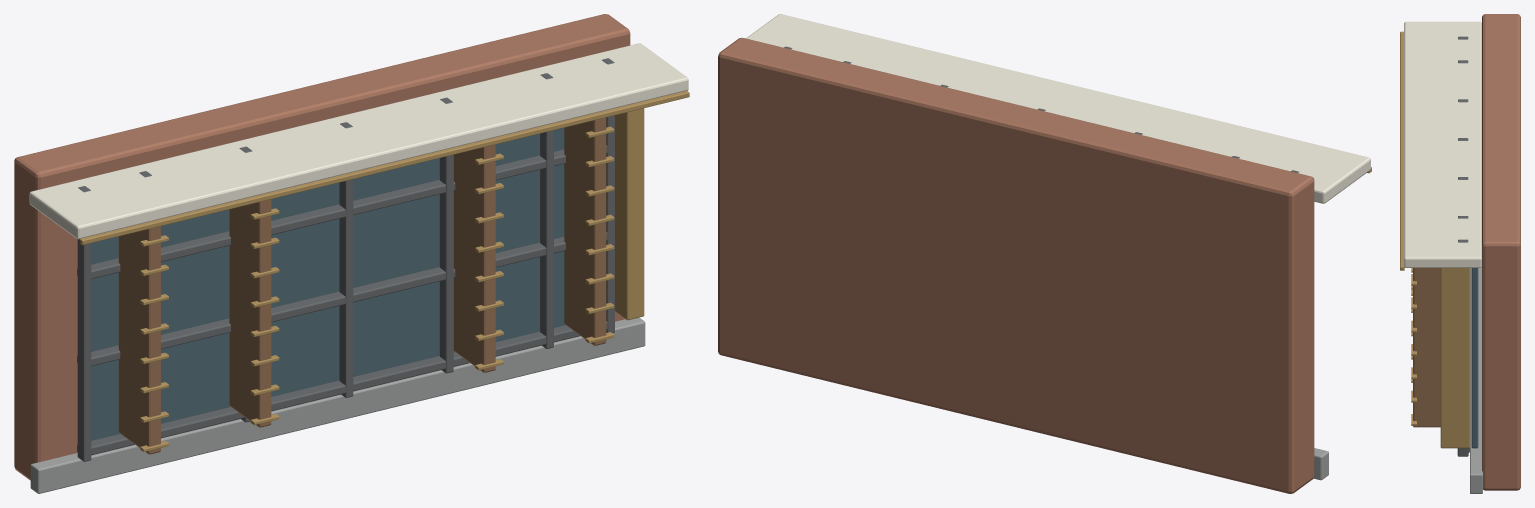
Rendered from R2_Hotel_Contemporaneo.fbx.
3 views of the same model, side by side, from view 1: azimuth 30°, elevation 25°; view 2: azimuth 150°, elevation 25°; view 3: azimuth 270°, elevation 25° (orthographic). The views are drawn at different scales.
Visible parts, largest first — view 1: R2_Hotel_Contemporaneo_vidro_fachada, R2_Hotel_Contemporaneo_estrutura_terreo, R2_Hotel_Contemporaneo_marquise_horizontal, R2_Hotel_Contemporaneo_base_pedra, R2_Hotel_Contemporaneo_brise_vertical_1, R2_Hotel_Contemporaneo_brise_vertical_0, R2_Hotel_Contemporaneo_brise_vertical_3, R2_Hotel_Contemporaneo_brise_vertical_2, R2_Hotel_Contemporaneo_totem_lateral, R2_Hotel_Contemporaneo_travessa_0.42, R2_Hotel_Contemporaneo_travessa_2.4, R2_Hotel_Contemporaneo_travessa_1.42 (+6 smaller); view 2: R2_Hotel_Contemporaneo_estrutura_terreo, R2_Hotel_Contemporaneo_marquise_horizontal; view 3: R2_Hotel_Contemporaneo_marquise_horizontal, R2_Hotel_Contemporaneo_estrutura_terreo, R2_Hotel_Contemporaneo_totem_lateral, R2_Hotel_Contemporaneo_brise_vertical_3, R2_Hotel_Contemporaneo_base_pedra, R2_Hotel_Contemporaneo_vidro_fachada, R2_Hotel_Contemporaneo_filete_marquise.
Boxes of the visible parts, box(x1,y1,x2,y2) form: R2_Hotel_Contemporaneo_vidro_fachada: box(91, 128, 565, 440); R2_Hotel_Contemporaneo_estrutura_terreo: box(14, 14, 630, 480); R2_Hotel_Contemporaneo_marquise_horizontal: box(29, 43, 688, 239); R2_Hotel_Contemporaneo_base_pedra: box(30, 317, 645, 493); R2_Hotel_Contemporaneo_brise_vertical_1: box(229, 199, 271, 427); R2_Hotel_Contemporaneo_brise_vertical_0: box(118, 226, 160, 454); R2_Hotel_Contemporaneo_brise_vertical_3: box(564, 117, 606, 345); R2_Hotel_Contemporaneo_brise_vertical_2: box(453, 144, 495, 372); R2_Hotel_Contemporaneo_totem_lateral: box(615, 108, 644, 320); R2_Hotel_Contemporaneo_travessa_0.42: box(77, 321, 607, 455); R2_Hotel_Contemporaneo_travessa_2.4: box(77, 145, 607, 278); R2_Hotel_Contemporaneo_travessa_1.42: box(77, 232, 607, 366); R2_Hotel_Contemporaneo_estrutura_terreo: box(718, 37, 1314, 493); R2_Hotel_Contemporaneo_marquise_horizontal: box(746, 14, 1370, 203); R2_Hotel_Contemporaneo_marquise_horizontal: box(1404, 21, 1481, 267); R2_Hotel_Contemporaneo_estrutura_terreo: box(1482, 14, 1520, 490); R2_Hotel_Contemporaneo_totem_lateral: box(1440, 268, 1470, 448); R2_Hotel_Contemporaneo_brise_vertical_3: box(1413, 268, 1440, 427); R2_Hotel_Contemporaneo_base_pedra: box(1470, 267, 1482, 493); R2_Hotel_Contemporaneo_vidro_fachada: box(1471, 268, 1478, 448); R2_Hotel_Contemporaneo_filete_marquise: box(1400, 31, 1404, 270).
Size of the model in its own units: 720 by 352 by 155.
